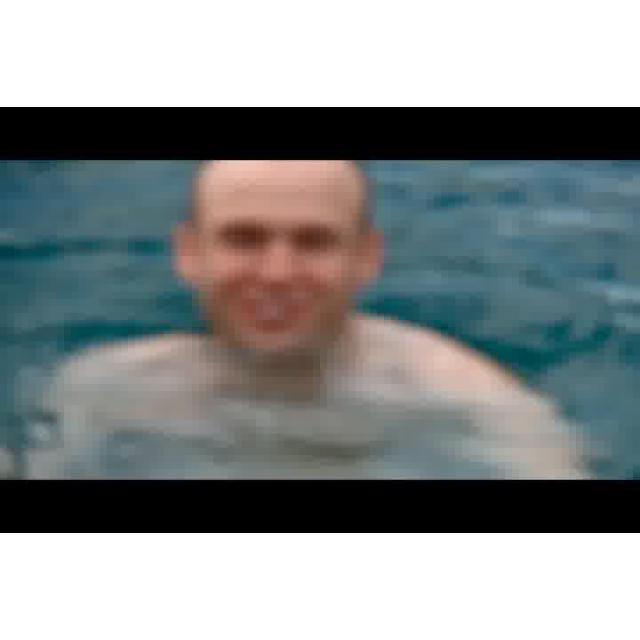human: (43, 160, 593, 474)
